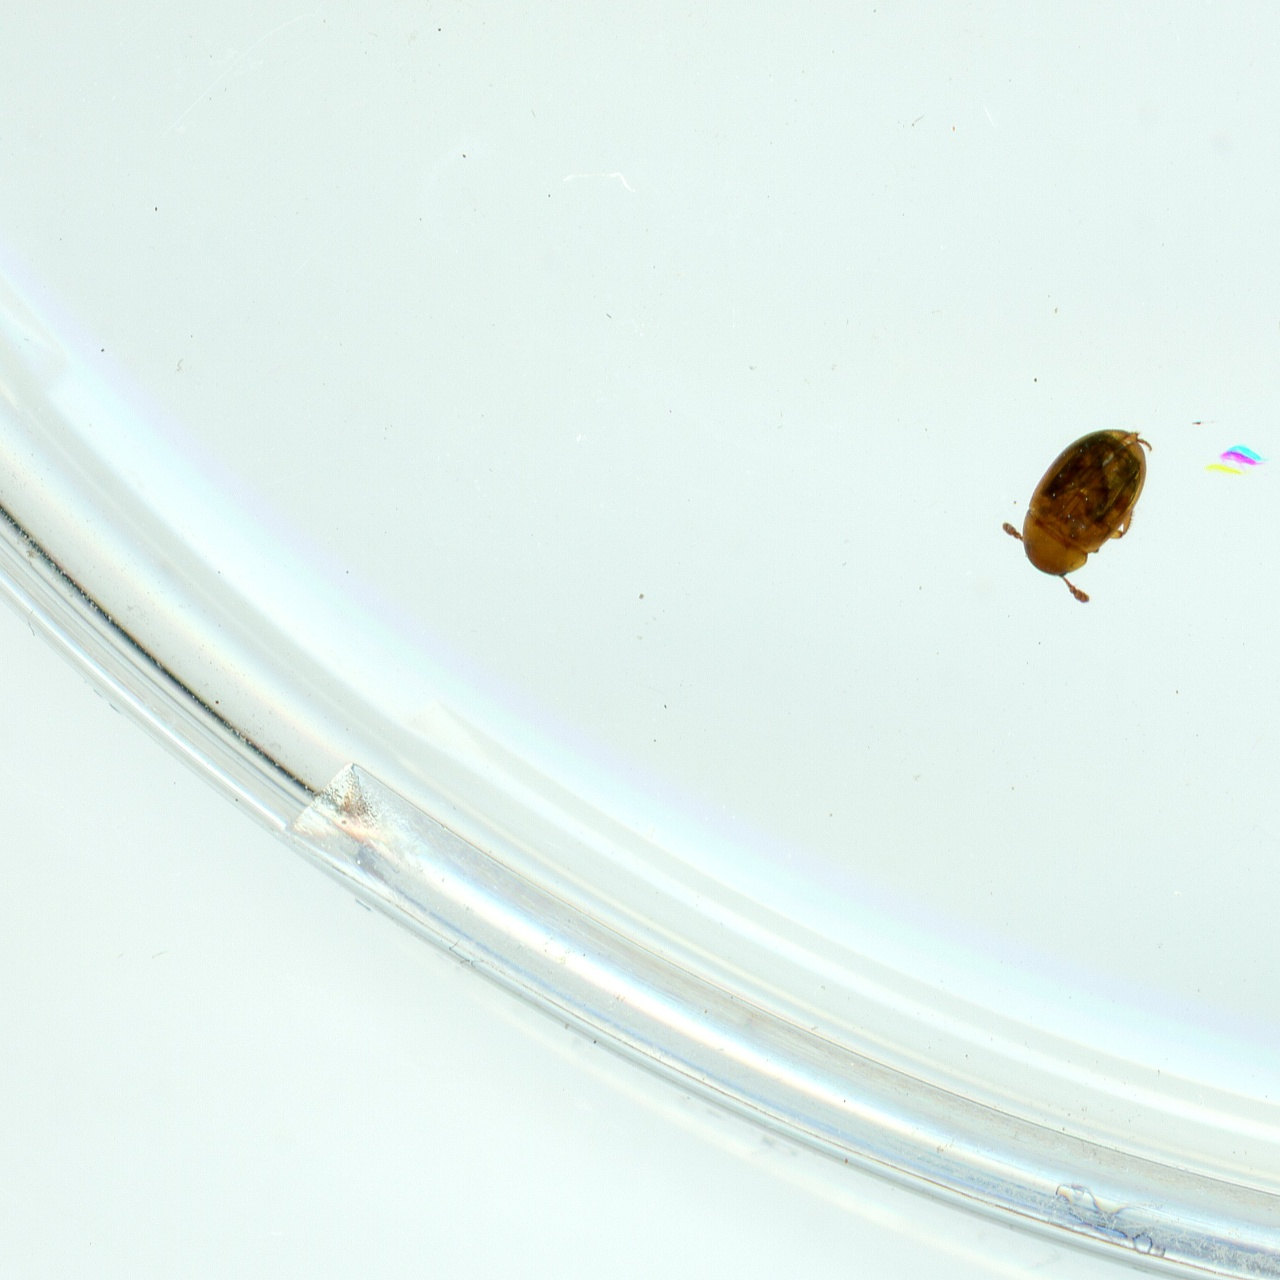arthropod: (1005, 421, 1157, 608), (1201, 444, 1265, 474)
